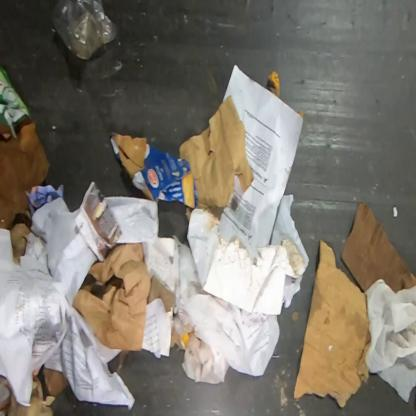cardboard: (179, 93, 306, 316), (293, 240, 372, 408), (0, 64, 52, 230), (339, 199, 415, 295), (109, 130, 199, 209), (8, 214, 34, 266)
rigid_plastic: (54, 0, 118, 59)
